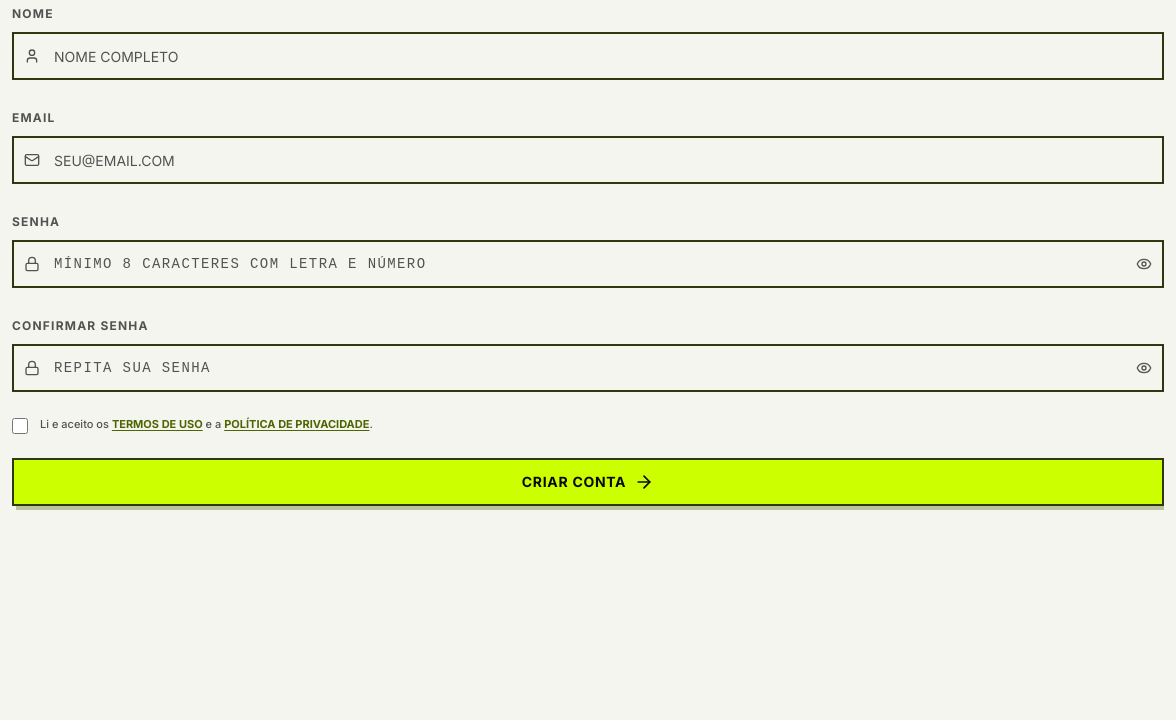
Test: RegisterForm › deve exibir erro se a senha for fraca (menos de 8 caracteres ou sem letra/número)
This screenshot has width=1176, height=720.
In the password field labelled "Senha": (588, 264) [12, 240, 1164, 288], type "fraca"
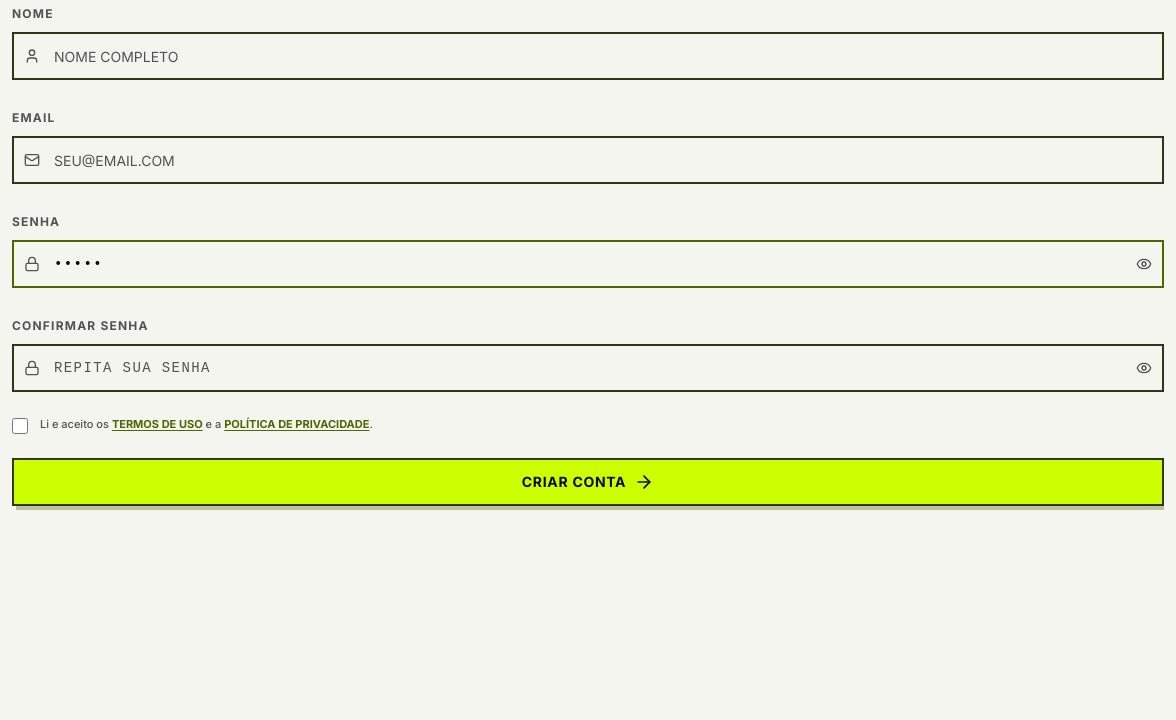
Click the button "Criar Conta": click(588, 482) [12, 458, 1164, 506]
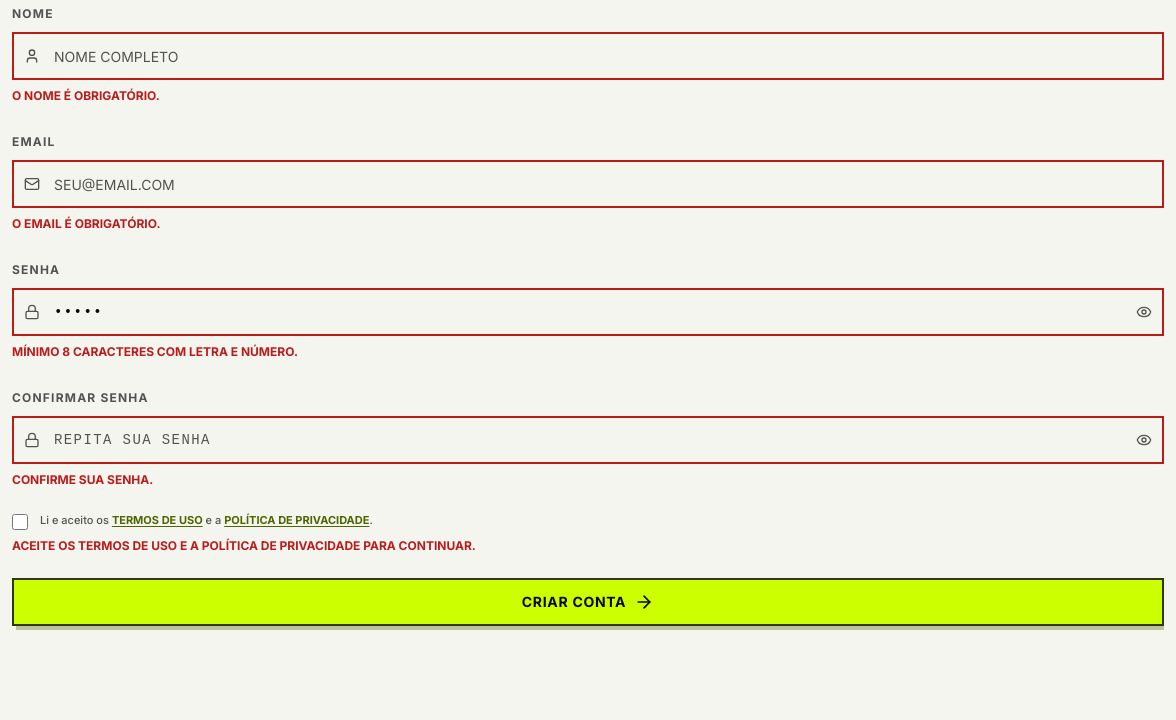
Now the text "Mínimo 8 caracteres com letra e número." is shown, box [12, 344, 298, 359]
